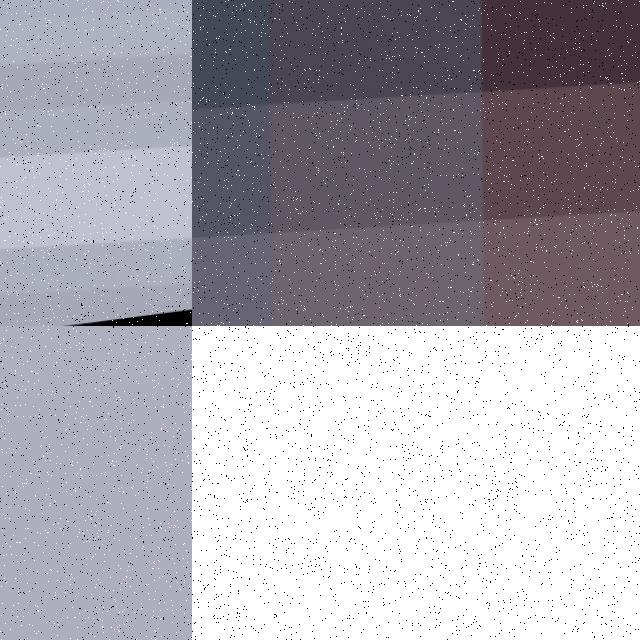drone: (192, 0, 640, 326), (192, 326, 640, 640), (0, 0, 192, 326)
